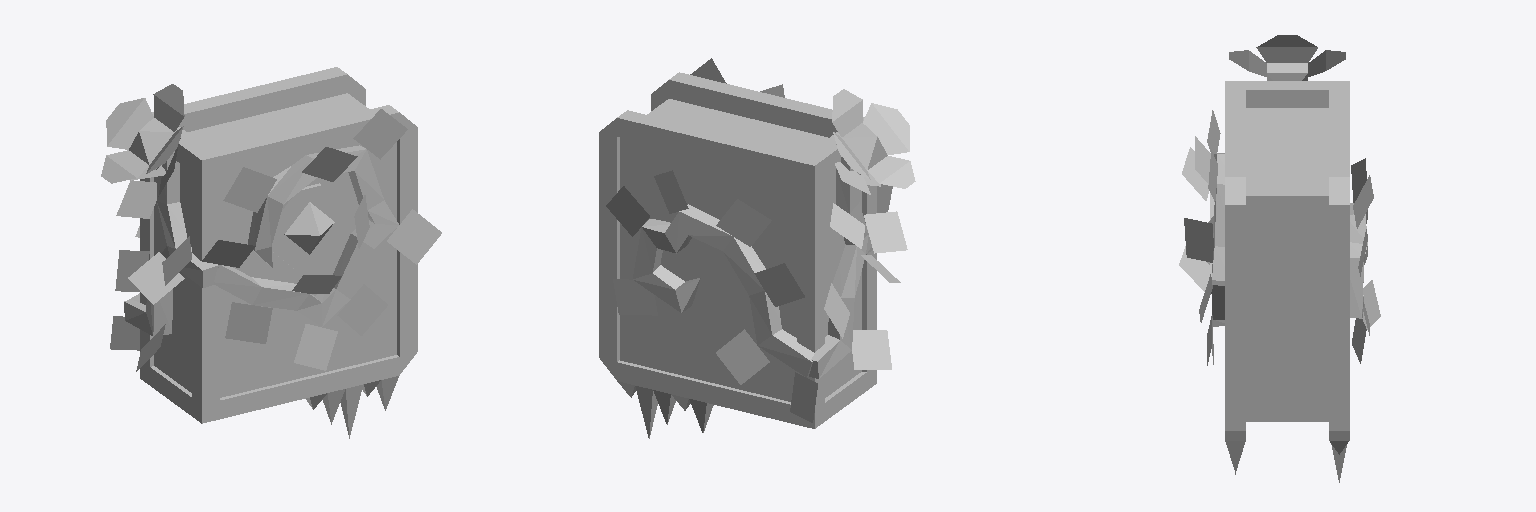
The model's file is grimoire_fey_closed.obj.
3 renders of one model, left to right at view 1: azimuth 30°, elevation 25°; view 2: azimuth 150°, elevation 25°; view 3: azimuth 270°, elevation 25°, orthographic.
Visible parts, largest first — view 1: COVER_FRONT_VAR6_CLOSED_Cube.059, COVERDECO_FRONT_VAR6_CLOSED_Cube.108, SPINEDECO_VAR6_CLOSED_Cube.109, SPINE_VAR6_CLOSED_Cube.060, COVER_BACK_VAR6_CLOSED_Cube.110, PAGES_BACK_VAR6_CLOSED_Cube.075, COVERDECO_BACK_VAR6_CLOSED_Cube.107; view 2: COVER_BACK_VAR6_CLOSED_Cube.110, COVERDECO_BACK_VAR6_CLOSED_Cube.107, SPINEDECO_VAR6_CLOSED_Cube.109, SPINE_VAR6_CLOSED_Cube.060, COVER_FRONT_VAR6_CLOSED_Cube.059, PAGES_FRONT_VAR6_CLOSED_Cube.076, COVERDECO_FRONT_VAR6_CLOSED_Cube.108; view 3: PAGES_BACK_VAR6_CLOSED_Cube.075, PAGES_FRONT_VAR6_CLOSED_Cube.076, COVER_FRONT_VAR6_CLOSED_Cube.059, COVER_BACK_VAR6_CLOSED_Cube.110, COVERDECO_FRONT_VAR6_CLOSED_Cube.108, COVERDECO_BACK_VAR6_CLOSED_Cube.107, SPINEDECO_VAR6_CLOSED_Cube.109, SPINE_VAR6_CLOSED_Cube.060.
Part boxes in pixels (x1,y1,x2,y2): COVER_FRONT_VAR6_CLOSED_Cube.059: (192,105,417,423); COVERDECO_FRONT_VAR6_CLOSED_Cube.108: (202,109,441,438); SPINEDECO_VAR6_CLOSED_Cube.109: (101,84,219,371); SPINE_VAR6_CLOSED_Cube.060: (140,112,219,415); COVER_BACK_VAR6_CLOSED_Cube.110: (140,67,365,366); PAGES_BACK_VAR6_CLOSED_Cube.075: (188,93,367,146); COVERDECO_BACK_VAR6_CLOSED_Cube.107: (110,226,139,350); COVER_BACK_VAR6_CLOSED_Cube.110: (599,110,824,424); COVERDECO_BACK_VAR6_CLOSED_Cube.107: (606,170,817,438); SPINEDECO_VAR6_CLOSED_Cube.109: (809,89,915,378); SPINE_VAR6_CLOSED_Cube.060: (797,132,876,428); COVER_FRONT_VAR6_CLOSED_Cube.059: (651,72,876,390); PAGES_FRONT_VAR6_CLOSED_Cube.076: (649,99,827,152); COVERDECO_FRONT_VAR6_CLOSED_Cube.108: (690,58,892,212); PAGES_BACK_VAR6_CLOSED_Cube.075: (1287,108,1328,421); PAGES_FRONT_VAR6_CLOSED_Cube.076: (1246,108,1286,421); COVER_FRONT_VAR6_CLOSED_Cube.059: (1225,81,1245,440); COVER_BACK_VAR6_CLOSED_Cube.110: (1329,90,1349,440); COVERDECO_FRONT_VAR6_CLOSED_Cube.108: (1179,110,1245,474); COVERDECO_BACK_VAR6_CLOSED_Cube.107: (1330,158,1380,482); SPINEDECO_VAR6_CLOSED_Cube.109: (1229,35,1345,80); SPINE_VAR6_CLOSED_Cube.060: (1246,81,1349,107).
Size of the model in its own units: 1.02 by 1.23 by 0.6093.